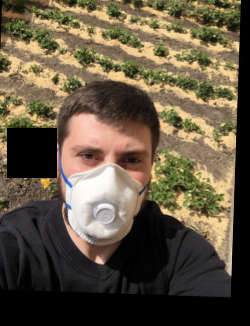with_mask: (62, 128, 150, 245)
